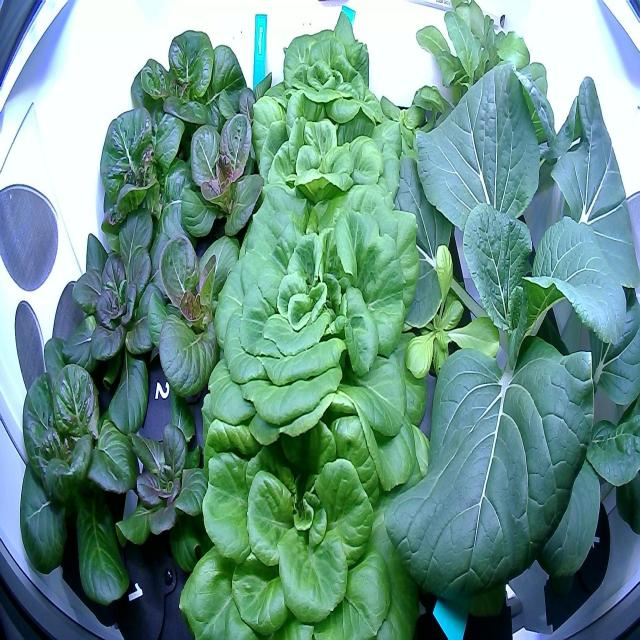Ready: (194, 183, 448, 492), (168, 366, 436, 640), (241, 70, 409, 244), (274, 1, 386, 137)
young: (11, 327, 156, 618), (45, 190, 188, 440), (117, 195, 255, 406), (88, 84, 226, 272), (113, 382, 225, 592), (120, 14, 254, 185), (394, 237, 516, 396), (168, 100, 276, 269), (365, 75, 452, 171)
